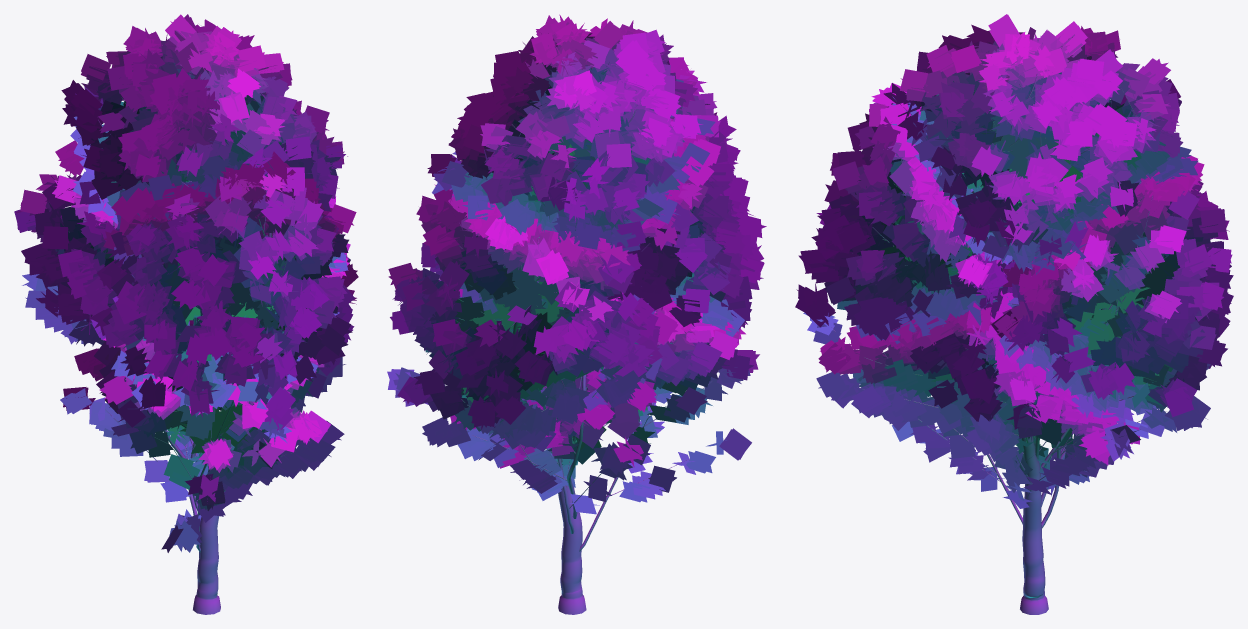
File: tree_birch_s4_a30.fbx
3 renders of one model, left to right at view 1: azimuth 30°, elevation 25°; view 2: azimuth 150°, elevation 25°; view 3: azimuth 270°, elevation 25°, orthographic.
Parts seen in each view (by area): view 1: tree_birch_s4_a30_leaves, tree_birch_s4_a30_branches; view 2: tree_birch_s4_a30_leaves, tree_birch_s4_a30_branches; view 3: tree_birch_s4_a30_leaves, tree_birch_s4_a30_branches.
Boxes of the visible parts, x1,y1,x2,y2 form: tree_birch_s4_a30_leaves: [14, 14, 358, 552]; tree_birch_s4_a30_branches: [68, 51, 303, 614]; tree_birch_s4_a30_leaves: [387, 14, 766, 514]; tree_birch_s4_a30_branches: [455, 63, 712, 614]; tree_birch_s4_a30_leaves: [795, 14, 1233, 508]; tree_birch_s4_a30_branches: [832, 73, 1182, 614].
Size of the model in its own units: 6.71 by 13.31 by 9.08.
